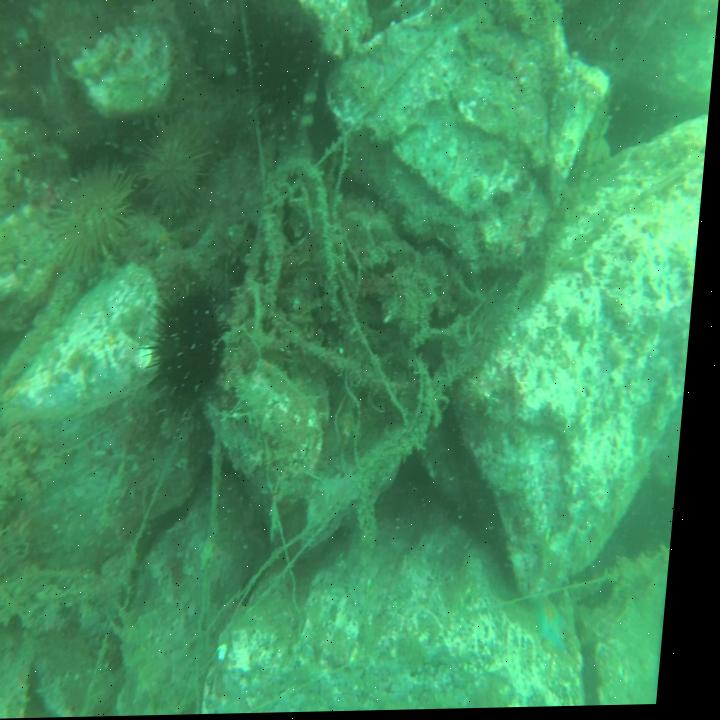echinus: (139, 275, 248, 420), (137, 91, 227, 251), (42, 151, 144, 285)
starfish: (540, 594, 585, 662)
